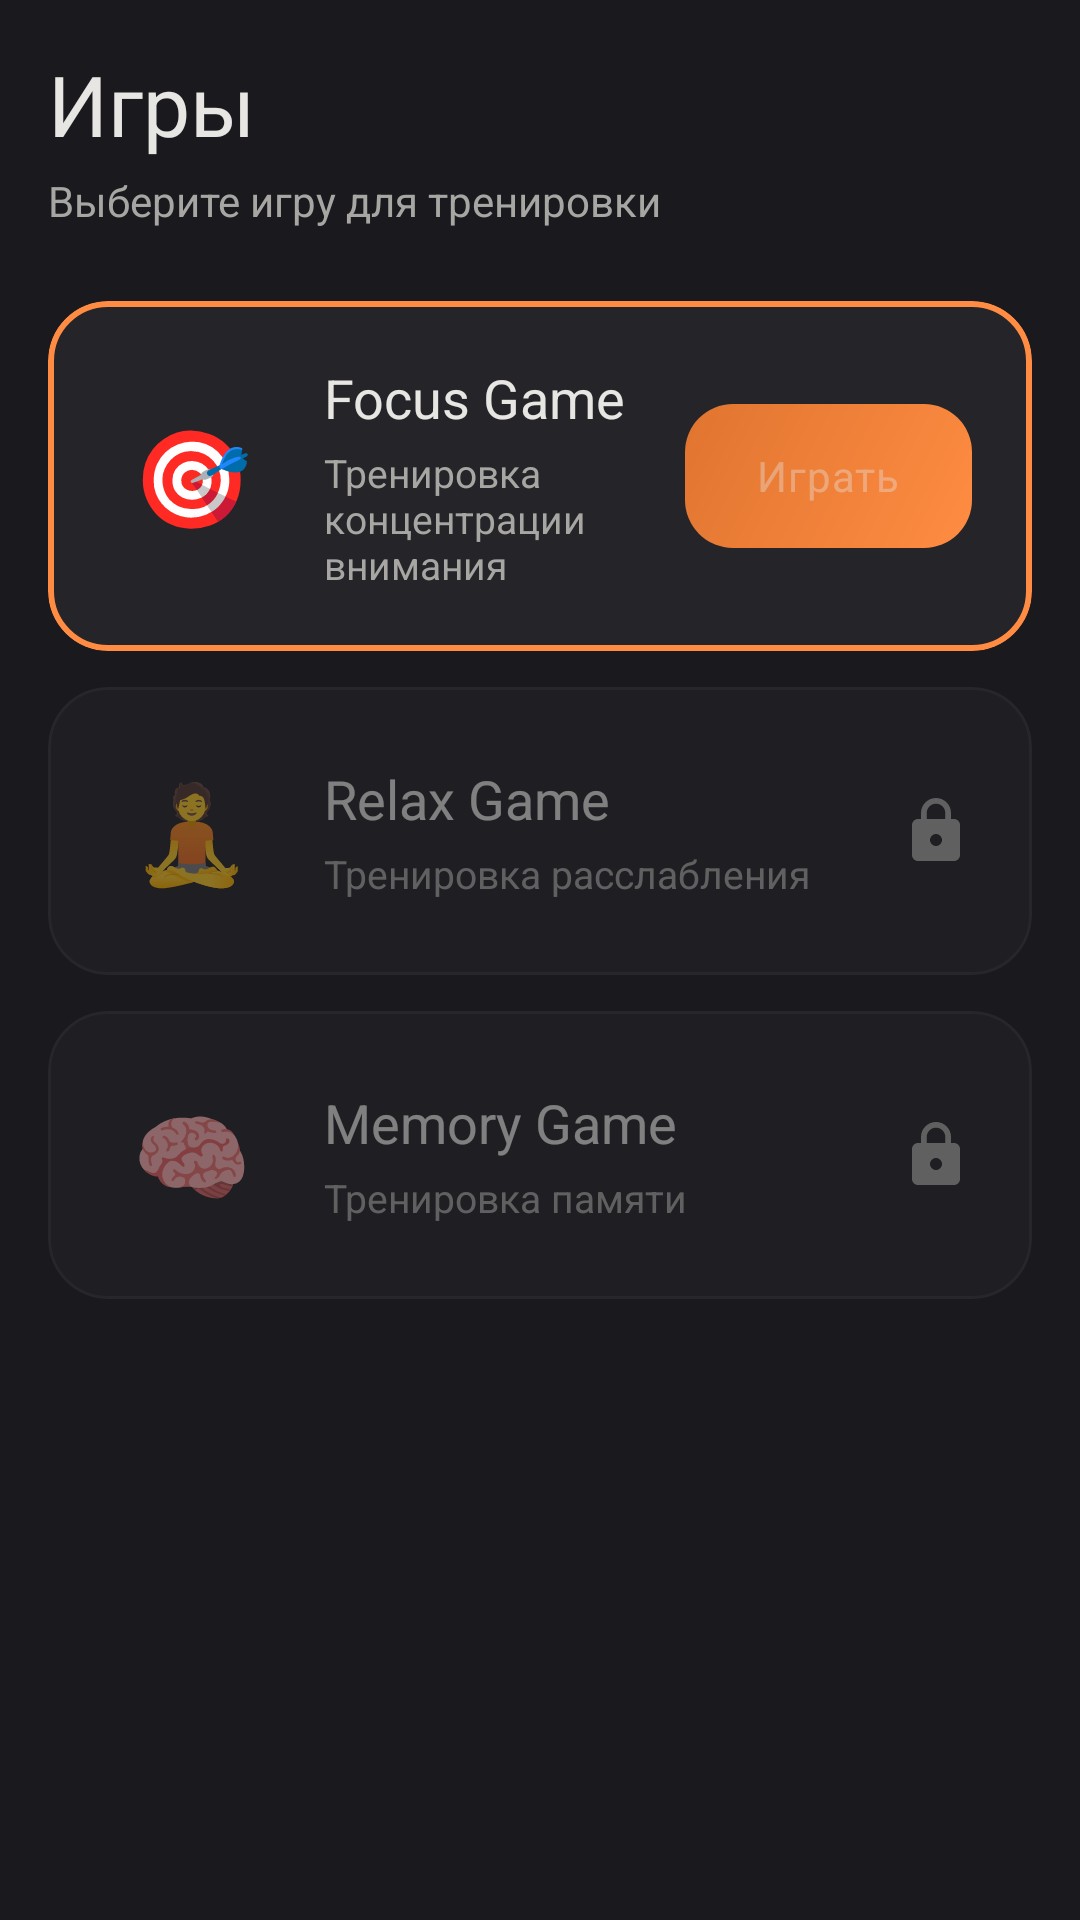

Where icons sit on this 1080px x 1920px app screen, as (x1, y1, x2, y2):
lock: (912, 798, 960, 861), (912, 1122, 960, 1185)
